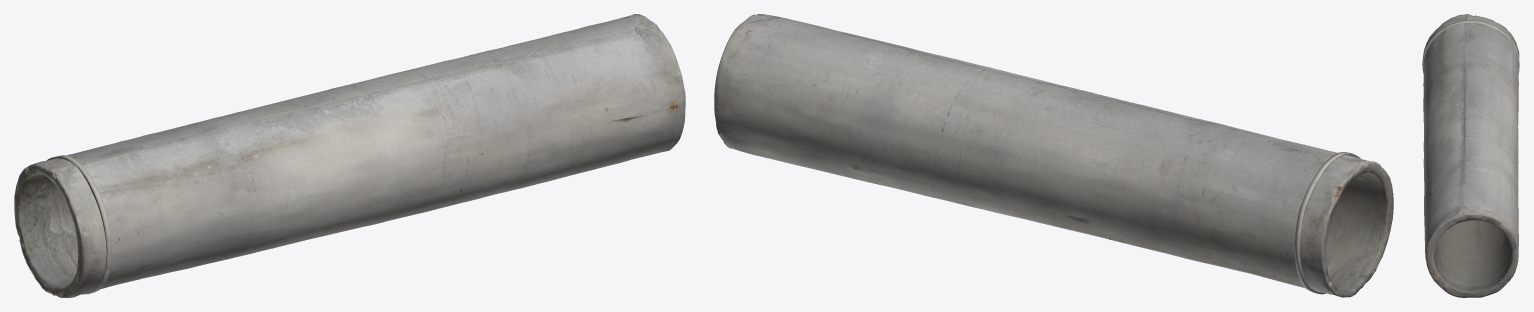
Rendered from 排污口.glb.
3 views of the same model, side by side, from view 1: azimuth 30°, elevation 25°; view 2: azimuth 150°, elevation 25°; view 3: azimuth 270°, elevation 25° (orthographic). The views are drawn at different scales.
Visible parts, largest first — view 1: 排污口; view 2: 排污口; view 3: 排污口.
Part boxes in pixels (x1,y1,x2,y2): 排污口: [14, 14, 685, 297]; 排污口: [714, 14, 1393, 297]; 排污口: [1422, 14, 1519, 297].
Bounding box in the file's own units: 1.71 × 0.3509 × 0.3511.
1 material, 1 textured.
